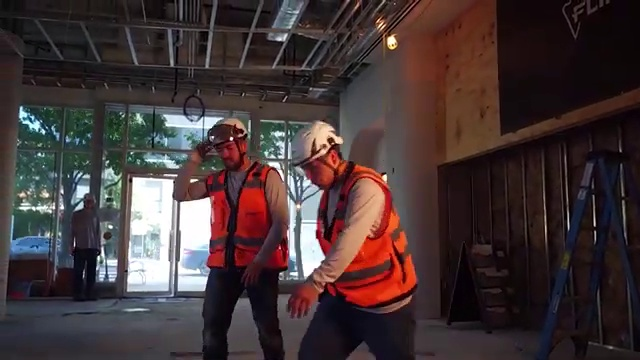helmet: (279, 118, 342, 170), (210, 118, 247, 141)
jacket: (311, 167, 430, 311), (203, 167, 290, 275)
